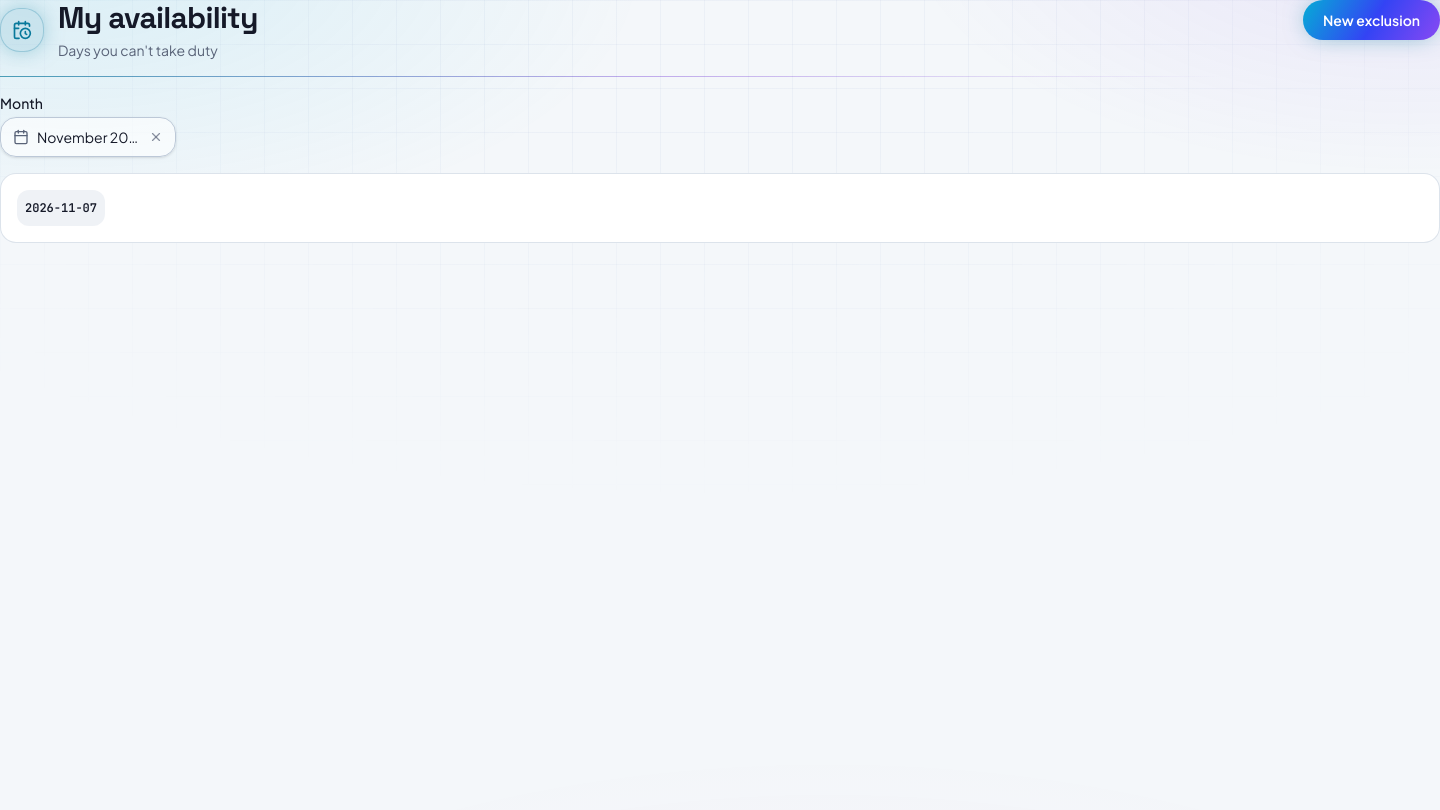
Scenario: MyAvailabilityPage › delete from the edit dialog shows an inline error when it fails
Click the button "2026-11-07" at x=61, y=208, box [17, 190, 105, 226]
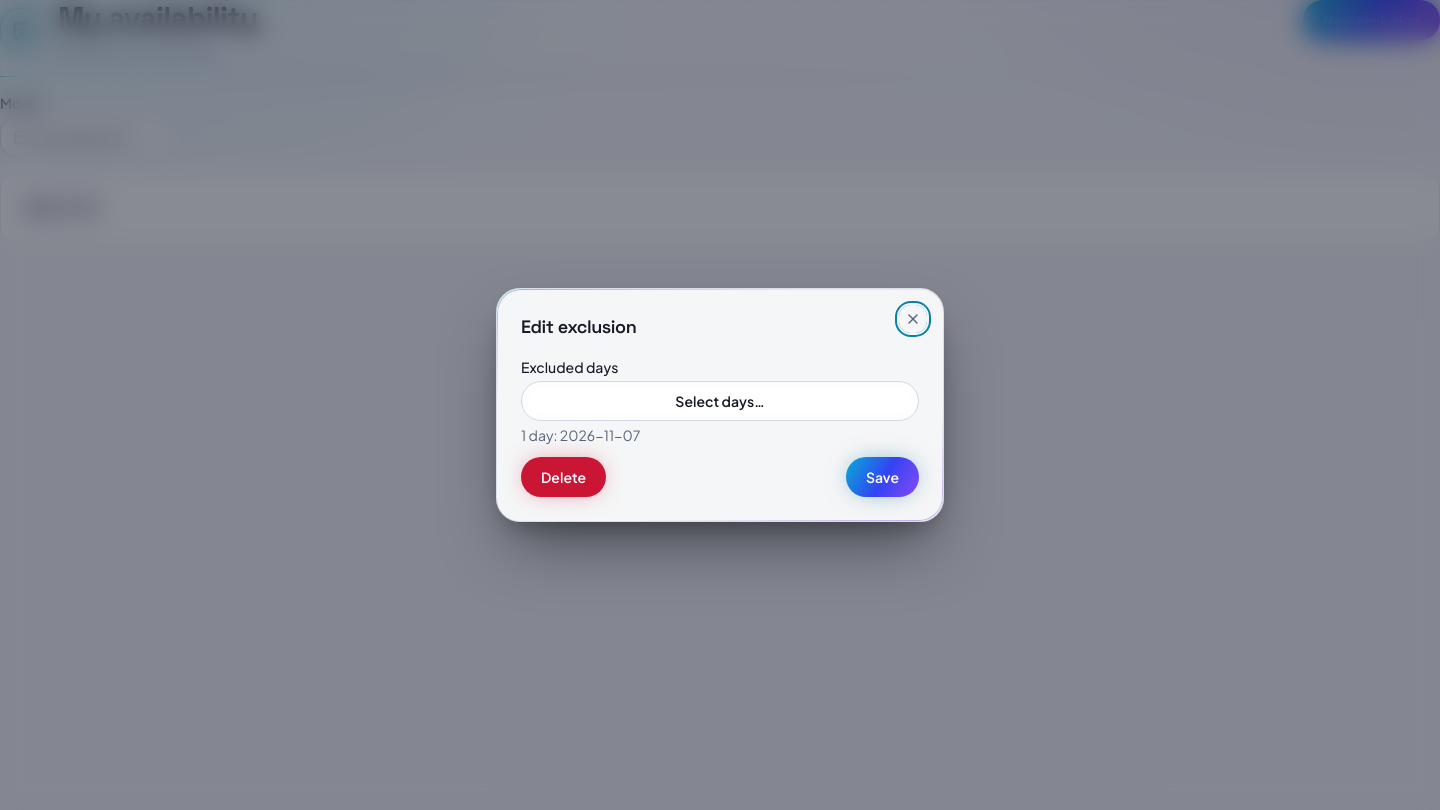
Click the button "Delete" at x=564, y=477, box [521, 457, 606, 497]
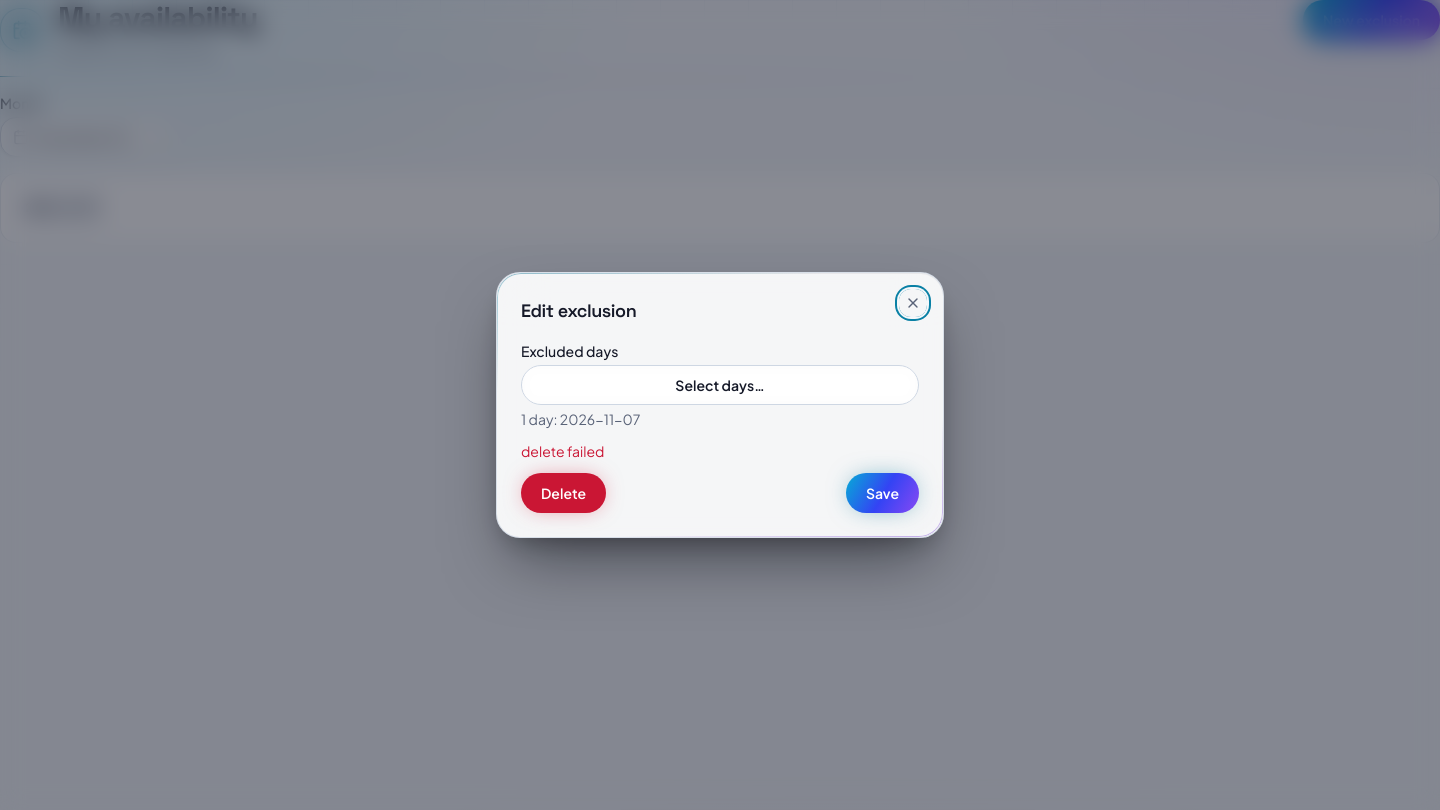
expect the button "Save" is shown: met, box [846, 473, 919, 513]
expect the message "delete failed" is shown: met, box [521, 442, 604, 460]
